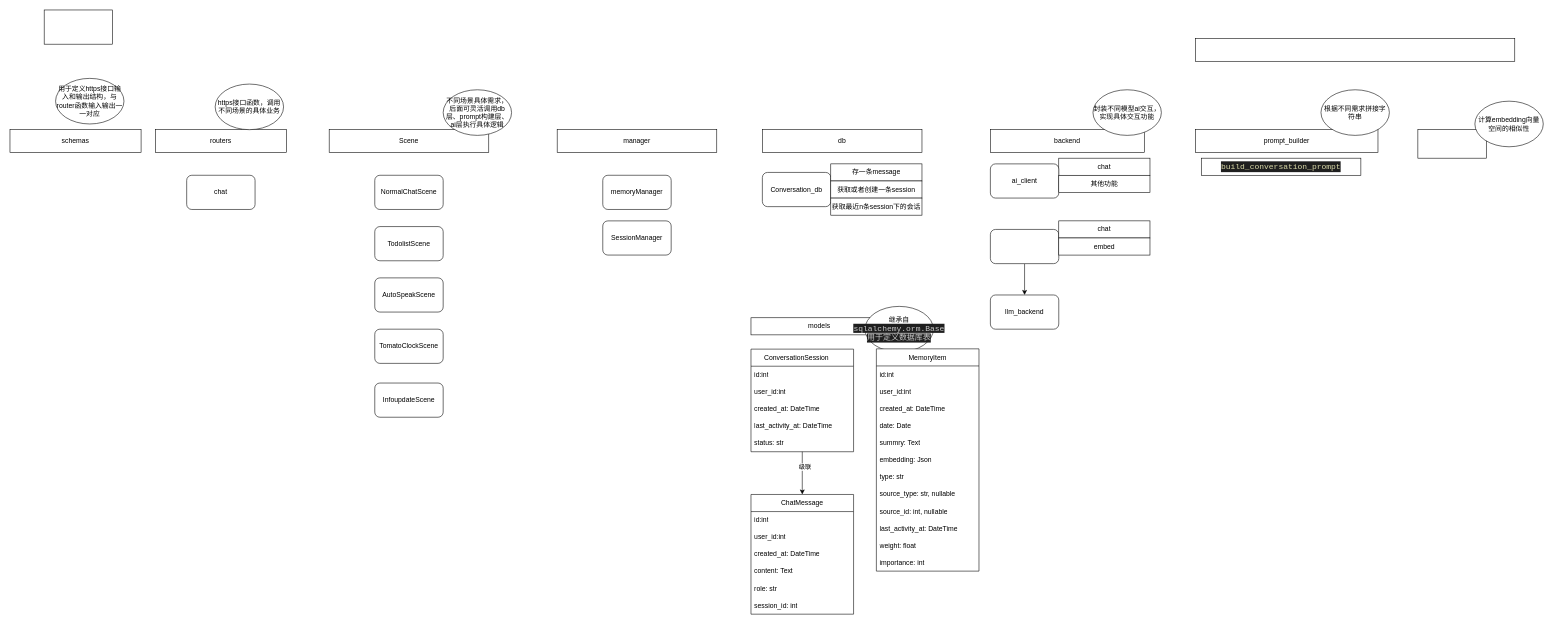
Some shapes in this 1553 by 624 pixel diagram are drawn without their labels. Here are the shapes that lost their labels. From the top down, the centre of each, then its label:
At (x=78, y=26): "main.py".
At (x=1355, y=49): "utils".
At (x=1451, y=143): "cosine_similarity".
At (x=1024, y=246): "llm_openai".
